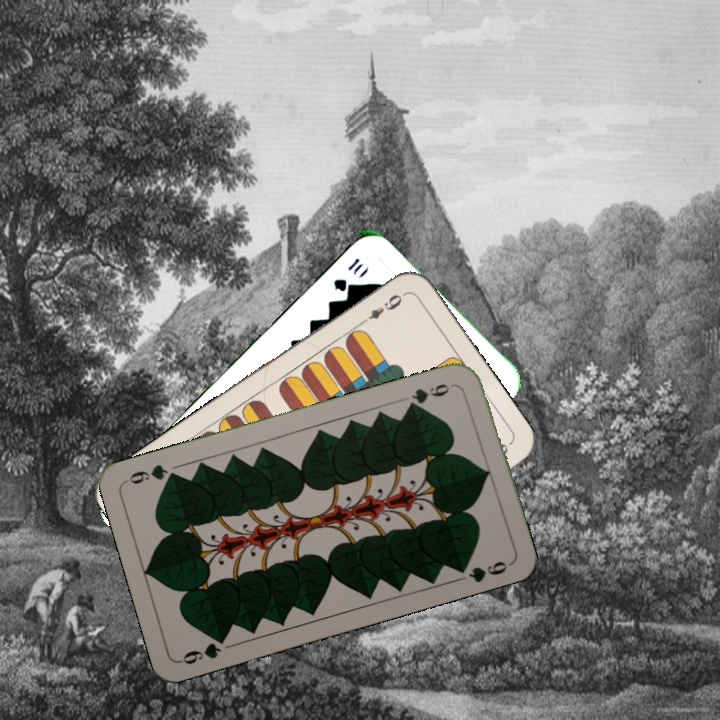E9: (356, 289, 408, 328)
G10: (329, 253, 367, 295)
G9: (176, 630, 230, 667), (404, 379, 459, 411)
